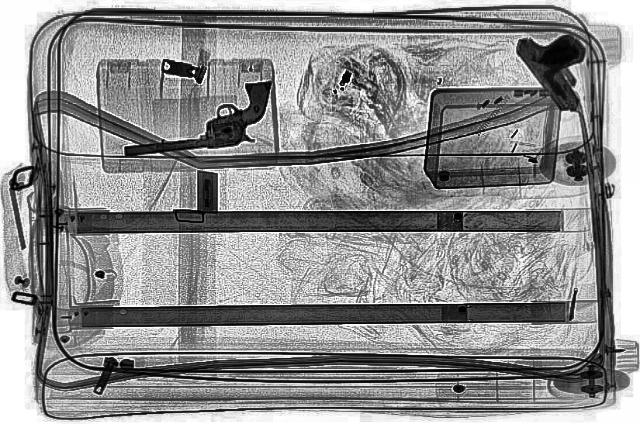Gun: (101, 80, 303, 159), (513, 27, 605, 115)
